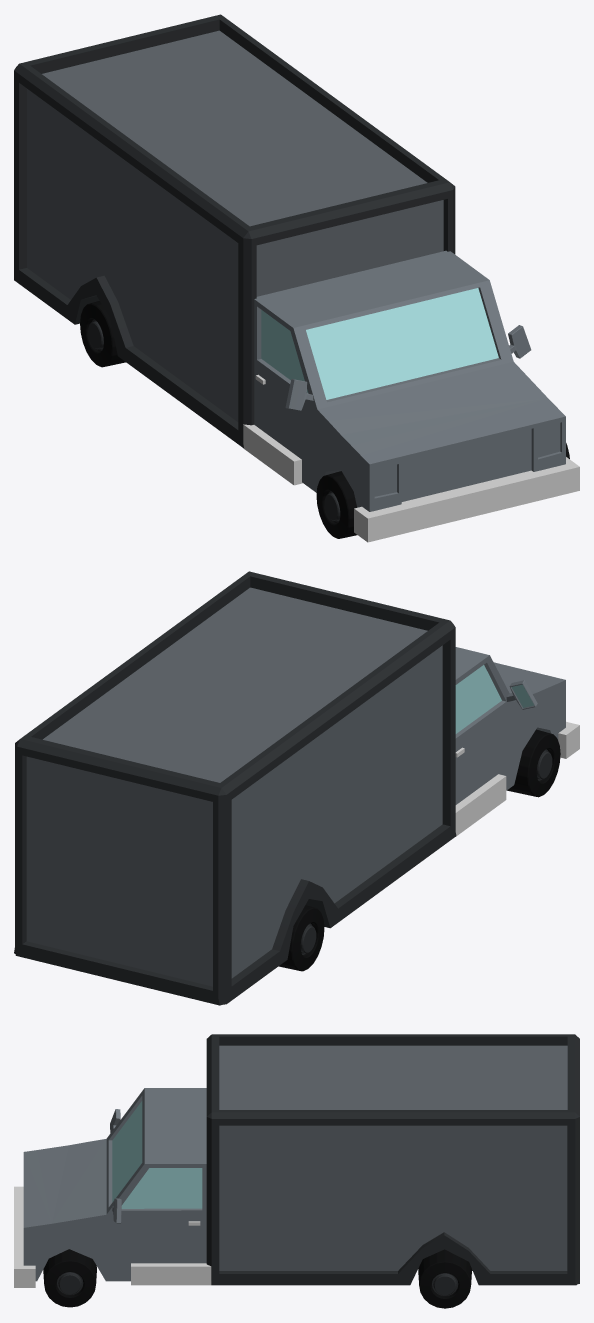
Rendered from Truck.fbx.
The picture shows the model from 3 angles, top to bottom: view 1: azimuth 30°, elevation 25°; view 2: azimuth 150°, elevation 25°; view 3: azimuth 270°, elevation 25°; orthographic projection. The views are drawn at different scales.
Visible parts, largest first — view 1: pCube6, pCube1, pCube2, pCylinder6, pCylinder3, pCube3; view 2: pCube6, pCube1, pCylinder6, pCylinder3, pCube3, pCube2, pCube5; view 3: pCube6, pCube1, pCylinder4, pCylinder5, pCube3, pCube2.
Part boxes in pixels (x1,y1,x2,y2): pCube6: [14, 14, 455, 448]; pCube1: [254, 250, 565, 511]; pCube2: [354, 457, 579, 542]; pCylinder6: [316, 471, 356, 538]; pCylinder3: [80, 301, 125, 367]; pCube3: [243, 424, 302, 485]; pCube6: [14, 571, 456, 1005]; pCube1: [455, 647, 565, 804]; pCylinder6: [507, 729, 560, 797]; pCylinder3: [278, 905, 324, 971]; pCube3: [455, 774, 506, 836]; pCube2: [558, 721, 579, 758]; pCube5: [506, 680, 537, 709]; pCube6: [206, 1034, 579, 1285]; pCube1: [23, 1088, 206, 1281]; pCylinder4: [418, 1249, 471, 1308]; pCylinder5: [43, 1249, 96, 1307]; pCube3: [131, 1263, 211, 1285]; pCube2: [14, 1186, 35, 1287].
Bounding box in the file's own units: 471 × 439 × 1176.
